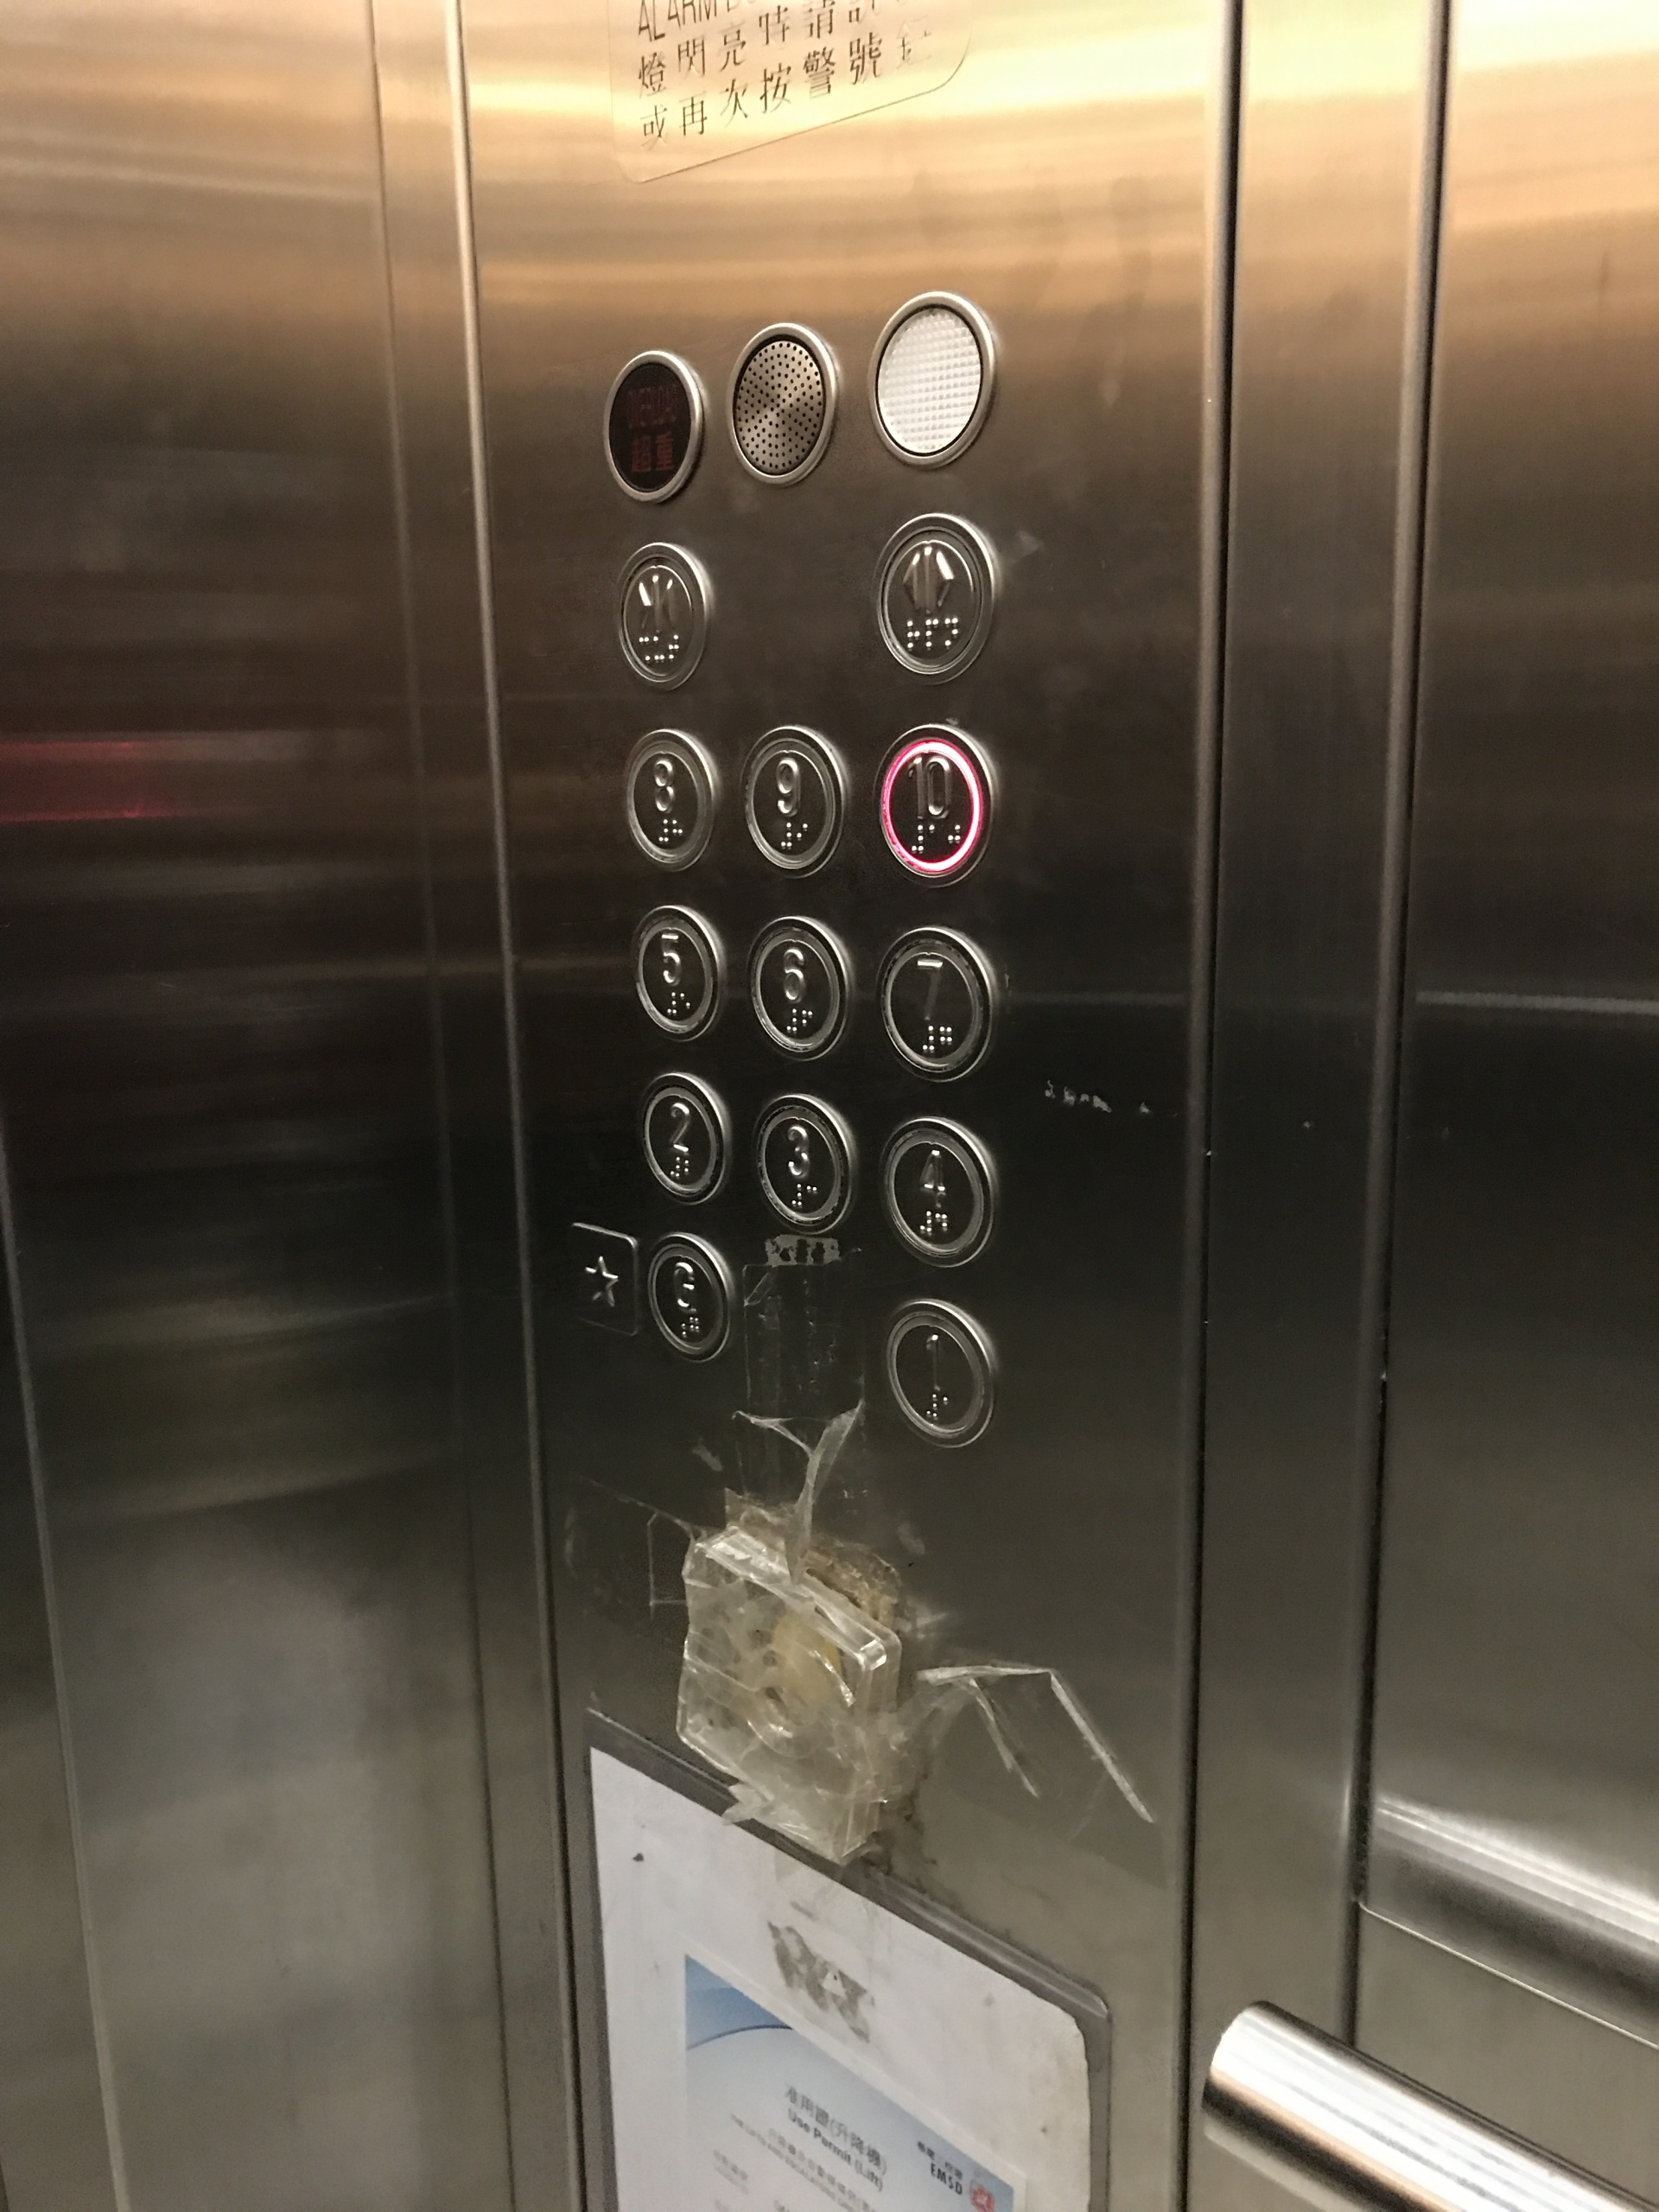1: (875, 1296, 1000, 1451)
10: (863, 721, 1000, 890)
2: (633, 1068, 734, 1207)
3: (746, 1090, 857, 1237)
4: (875, 1111, 1000, 1268)
5: (622, 900, 725, 1047)
6: (741, 913, 852, 1061)
7: (868, 921, 1000, 1085)
8: (617, 725, 721, 874)
9: (734, 721, 849, 880)
G: (641, 1226, 735, 1362)
close: (606, 538, 720, 693)
empty: (861, 286, 999, 470)
open: (866, 507, 1000, 683)
s: (549, 1217, 634, 1334)
speaker: (721, 317, 840, 488)
text_overweight: (598, 343, 706, 507)
